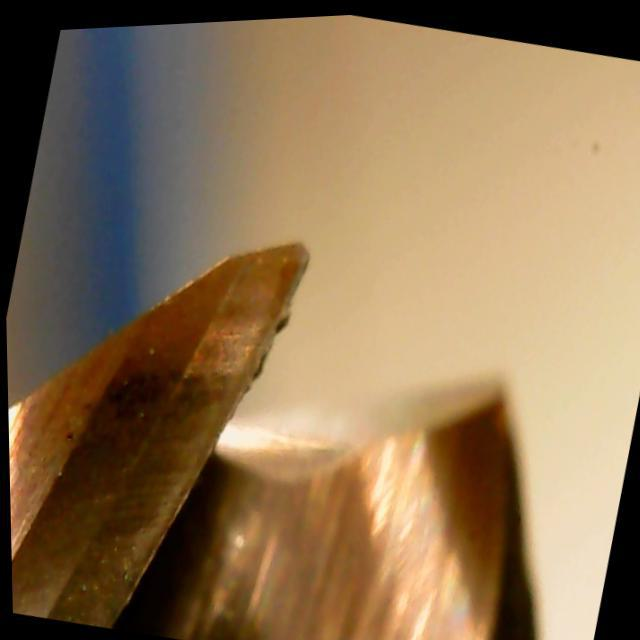Tool-wear-class-1: (111, 202, 343, 466)
